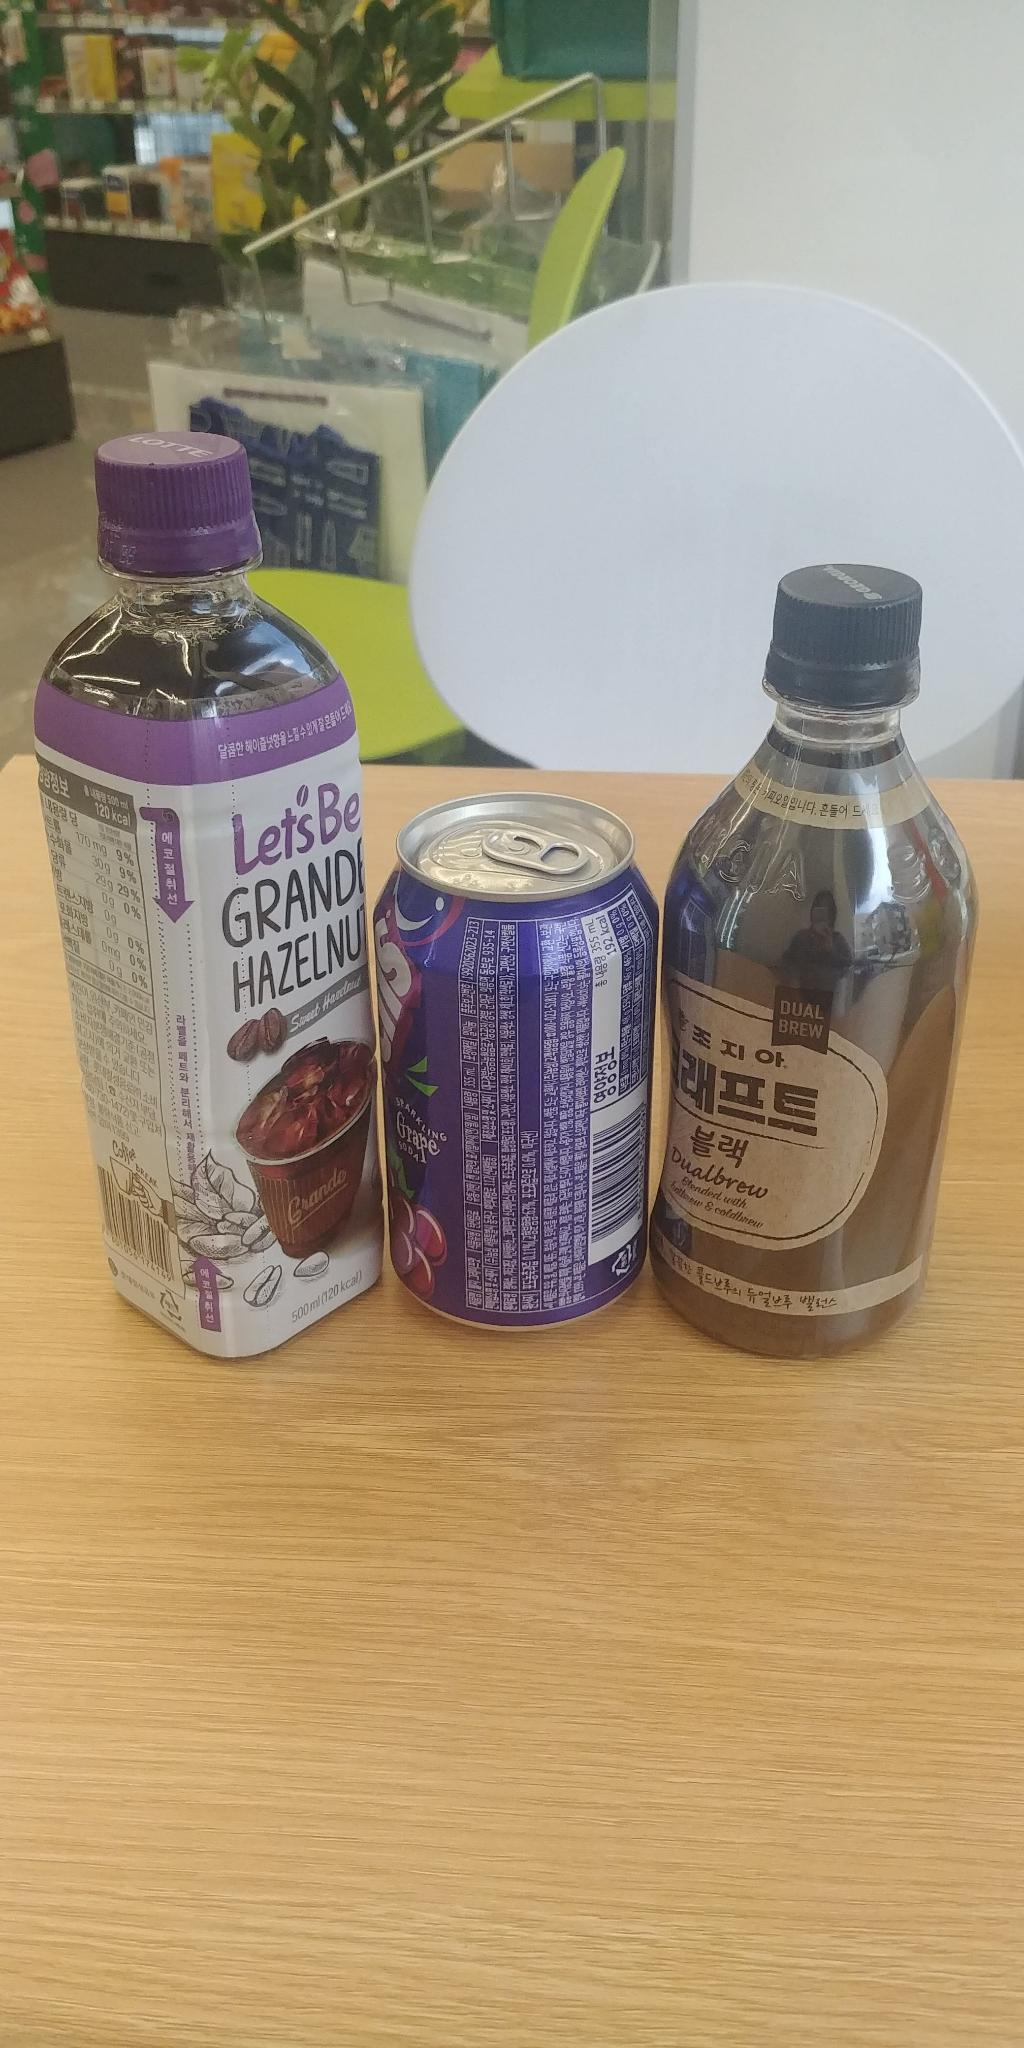georgiacraft_black: (645, 520, 977, 1370)
letsbe_grande_hazelnut: (21, 393, 405, 1362)
welchs_grape: (341, 782, 671, 1356)
